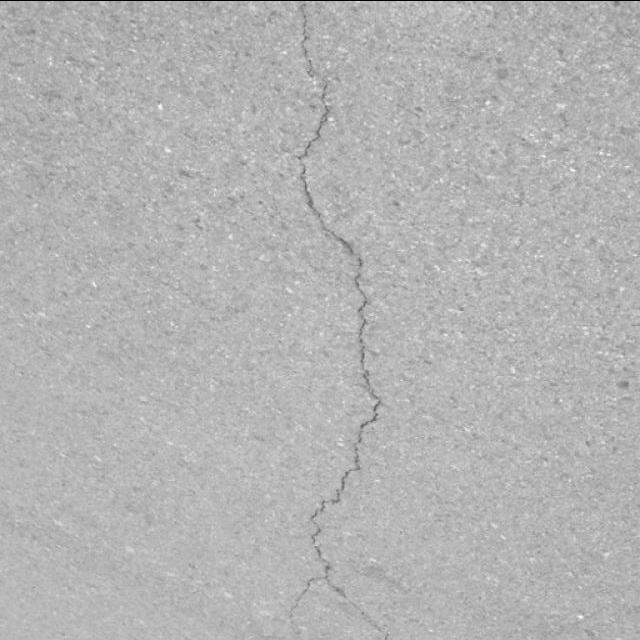SurfaceCrack: (259, 0, 409, 640)
